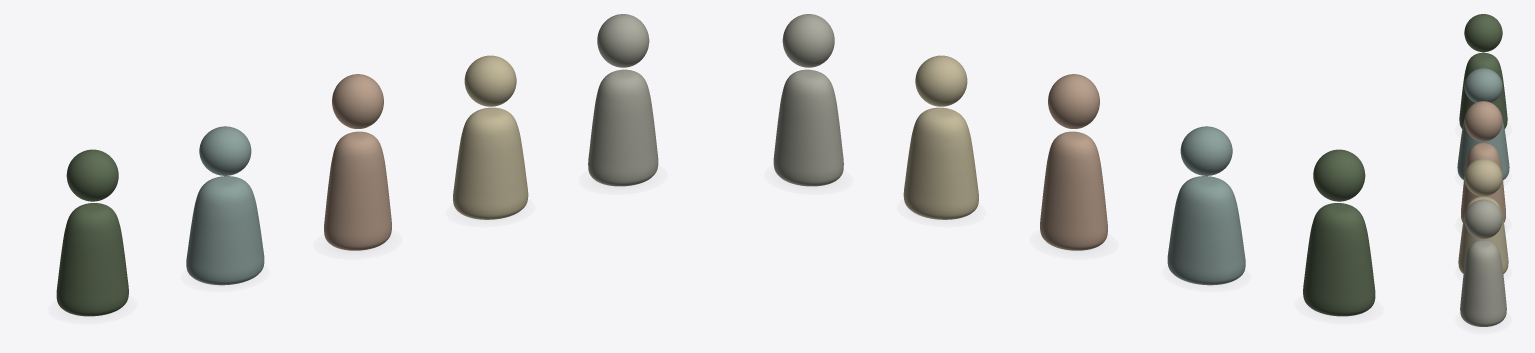
The model's file is gnomi-personas.glb.
3 renders of one model, left to right at view 1: azimuth 30°, elevation 25°; view 2: azimuth 150°, elevation 25°; view 3: azimuth 270°, elevation 25°, orthographic. The views are drawn at different scales.
Parts seen in each view (by area): view 1: Gnomi ceramic persona gold 3, Gnomi ceramic persona blue 1, Gnomi ceramic persona lilac 4, Gnomi ceramic persona clay 2, Gnomi ceramic persona olive 0; view 2: Gnomi ceramic persona gold 3, Gnomi ceramic persona blue 1, Gnomi ceramic persona lilac 4, Gnomi ceramic persona clay 2, Gnomi ceramic persona olive 0; view 3: Gnomi ceramic persona lilac 4, Gnomi ceramic persona olive 0, Gnomi ceramic persona clay 2, Gnomi ceramic persona gold 3, Gnomi ceramic persona blue 1.
Boxes of the visible parts, x1,y1,x2,y2 form: Gnomi ceramic persona gold 3: [453, 55, 528, 219]; Gnomi ceramic persona blue 1: [186, 126, 264, 285]; Gnomi ceramic persona lilac 4: [588, 14, 658, 186]; Gnomi ceramic persona clay 2: [324, 74, 391, 250]; Gnomi ceramic persona olive 0: [56, 149, 128, 316]; Gnomi ceramic persona gold 3: [903, 55, 978, 219]; Gnomi ceramic persona blue 1: [1167, 126, 1245, 285]; Gnomi ceramic persona lilac 4: [773, 14, 843, 186]; Gnomi ceramic persona clay 2: [1040, 74, 1107, 250]; Gnomi ceramic persona olive 0: [1303, 149, 1375, 316]; Gnomi ceramic persona lilac 4: [1460, 199, 1506, 326]; Gnomi ceramic persona olive 0: [1459, 14, 1507, 128]; Gnomi ceramic persona clay 2: [1461, 101, 1505, 222]; Gnomi ceramic persona gold 3: [1458, 159, 1508, 273]; Gnomi ceramic persona blue 1: [1457, 68, 1509, 180].
Size of the model in its own units: 7.2 by 1.8 by 1.
